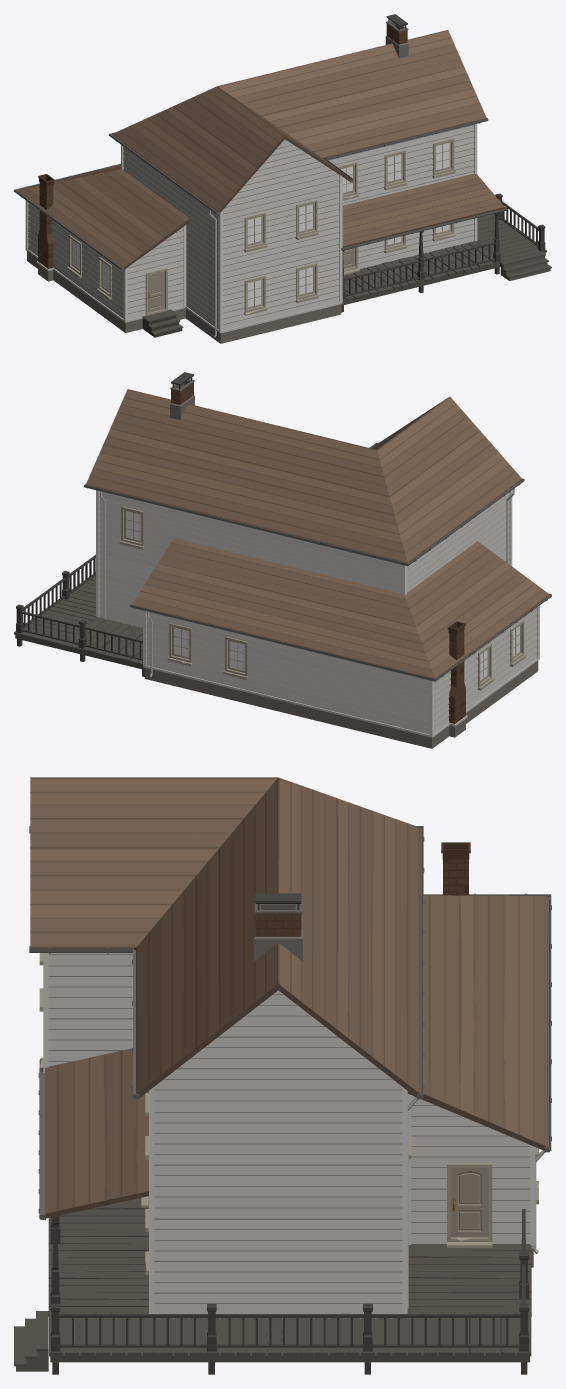
File: SM_Bldg_Farm_House_02.fbx
3 views of the same model, one above another, from view 1: azimuth 30°, elevation 25°; view 2: azimuth 150°, elevation 25°; view 3: azimuth 270°, elevation 25° (orthographic). The views are drawn at different scales.
Visible parts, largest first — view 1: SM_Bldg_Farm_House_02, SM_Bldg_Farm_House_02_Glass; view 2: SM_Bldg_Farm_House_02, SM_Bldg_Farm_House_02_Glass; view 3: SM_Bldg_Farm_House_02.
Boxes of the visible parts, <box> form: SM_Bldg_Farm_House_02: <box>14,14,551,343</box>; SM_Bldg_Farm_House_02_Glass: <box>73,142,449,306</box>; SM_Bldg_Farm_House_02: <box>14,372,551,748</box>; SM_Bldg_Farm_House_02_Glass: <box>126,511,519,680</box>; SM_Bldg_Farm_House_02: <box>14,777,551,1374</box>.
Bounding box in the file's own units: 2300 × 1214 × 1476.
